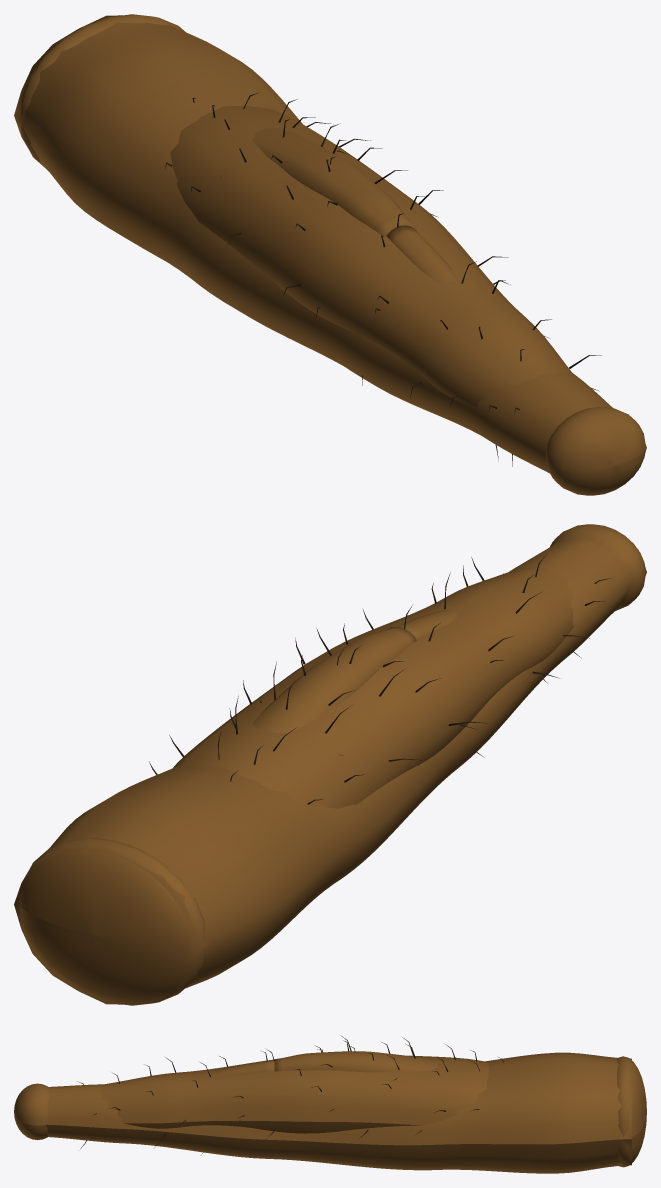
File: FlyLegSegments_Realism.fbx
3 renders of one model, top to bottom at view 1: azimuth 30°, elevation 25°; view 2: azimuth 150°, elevation 25°; view 3: azimuth 270°, elevation 25°, orthographic. The views are drawn at different scales.
Visible parts, largest first — view 1: Bridge, Coxa, Tibia, Femur; view 2: Bridge, Coxa, Tibia, Femur; view 3: Bridge, Coxa, Tibia, Femur.
Part boxes in pixels (x1,y1,x2,y2): Bridge: [14, 14, 646, 495]; Coxa: [170, 105, 601, 461]; Tibia: [220, 92, 457, 283]; Femur: [165, 97, 599, 466]; Bridge: [14, 524, 646, 1005]; Coxa: [169, 557, 604, 808]; Tibia: [218, 610, 457, 759]; Femur: [149, 554, 612, 804]; Bridge: [14, 1052, 646, 1173]; Coxa: [80, 1036, 488, 1160]; Tibia: [213, 1040, 479, 1080]; Femur: [78, 1037, 503, 1139].
Size of the model in its own units: 24.22 by 22.27 by 105.
Materials: 3 (1 with a texture image).
